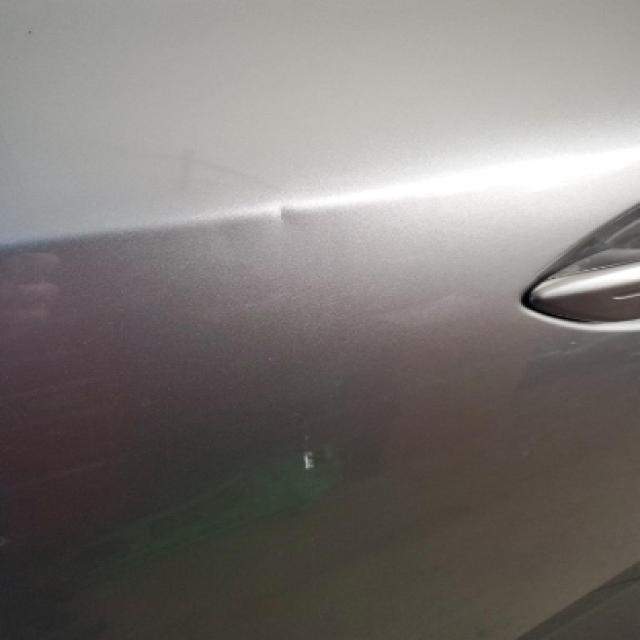dents: (230, 173, 328, 280)
